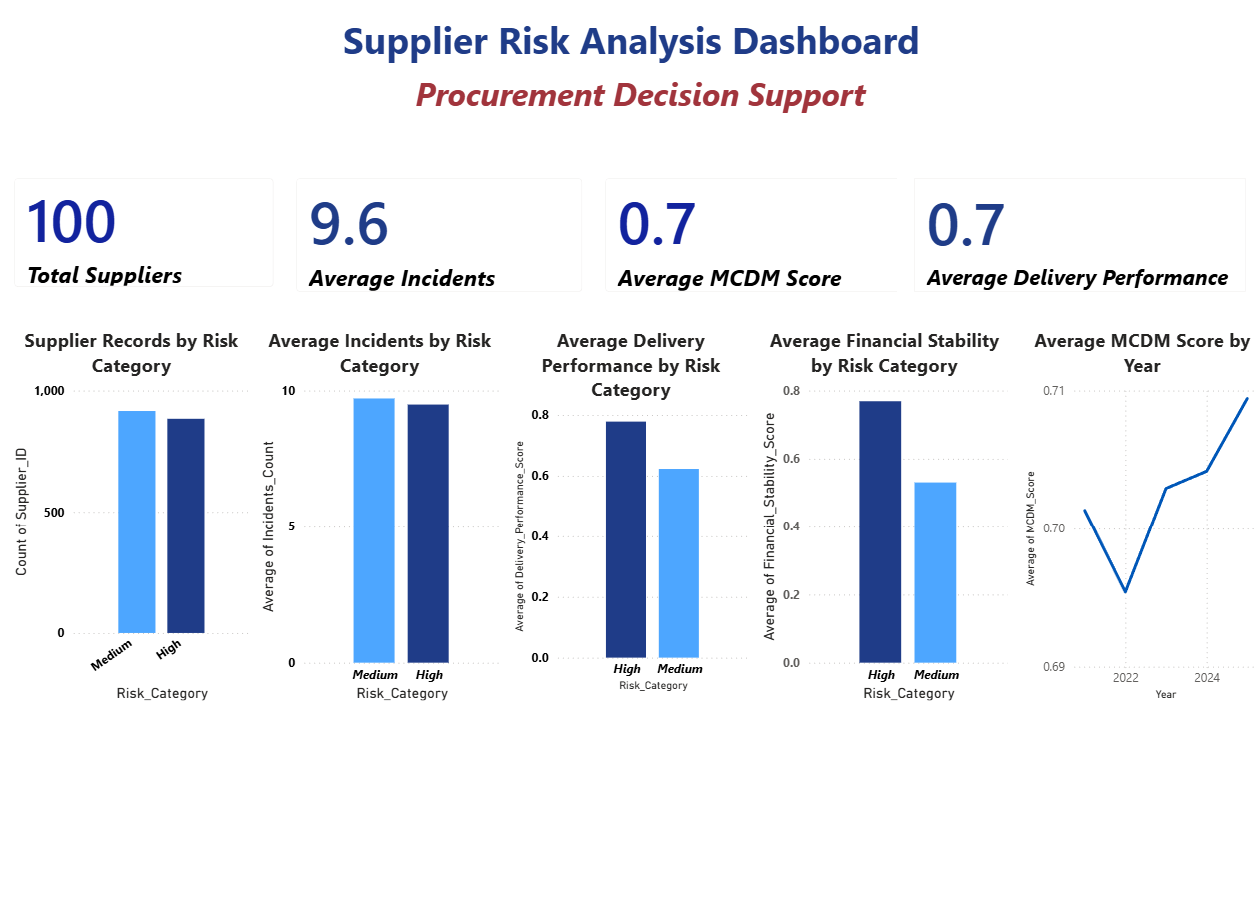

What the dashboard file says about the page in this screenshot:
{"tool":"powerbi","page":{"name":"Page 1","canvas":[1280,720],"ordinal":0},"visuals":[{"type":"cardVisual","fields":{"Data":["supplier_risk.Total Suppliers"]},"box":[0,169.6,296.4,144.6],"z":0},{"type":"cardVisual","fields":{"Data":["supplier_risk.Average MCDM Score"]},"box":[597,169.6,341.1,150],"z":1000},{"type":"cardVisual","fields":{"Data":["supplier_risk.Average Delivery Performance"]},"box":[908.9,169.6,369.6,150],"z":2000},{"type":"cardVisual","fields":{"Data":["supplier_risk.Average Incidents"]},"box":[285.1,169.6,323.2,150],"z":3000},{"type":"clusteredColumnChart","title":"Supplier Records by Risk Category","fields":{"Category":["supplier_risk.Risk_Category"],"Y":["CountNonNull(supplier_risk.Supplier_ID)"]},"box":[10.6,338.1,250.1,382],"z":4000},{"type":"clusteredColumnChart","title":"Average Incidents by Risk Category","fields":{"Category":["supplier_risk.Risk_Category"],"Y":["Avg(supplier_risk.Incidents_Count)"]},"box":[260.8,338.1,251.7,382],"z":5000},{"type":"clusteredColumnChart","title":"Average Delivery Performance by Risk Category","fields":{"Category":["supplier_risk.Risk_Category"],"Y":["Avg(supplier_risk.Delivery_Performance_Score)"]},"box":[517,338.1,247.1,372.9],"z":6000},{"type":"lineChart","title":"Average MCDM Score by Year","fields":{"Category":["supplier_risk.Year"],"Y":["Avg(supplier_risk.MCDM_Score)"]},"box":[1032.4,338.1,247.1,382],"z":7000},{"type":"clusteredColumnChart","title":"Average Financial Stability by Risk Category","fields":{"Category":["supplier_risk.Risk_Category"],"Y":["Avg(supplier_risk.Financial_Stability_Score)"]},"box":[765.6,338.1,259.2,382],"z":8000},{"type":"textbox","box":[0,15.2,1281,68.2],"z":9000},{"type":"textbox","box":[100.1,72.8,1099.1,57.6],"z":10000}]}

Visuals, with their boxes on the page's 1280x720 design canvas (x1, y1, x2, y2). These are canvas units, not pixel positions in the 1259x902 screenshot, which may show the page scaled, cropped or inside an application window:
cardVisual - supplier_risk.Total Suppliers: x1=0, y1=170, x2=296, y2=314
cardVisual - supplier_risk.Average MCDM Score: x1=597, y1=170, x2=938, y2=320
cardVisual - supplier_risk.Average Delivery Performance: x1=909, y1=170, x2=1278, y2=320
cardVisual - supplier_risk.Average Incidents: x1=285, y1=170, x2=608, y2=320
"Supplier Records by Risk Category" clusteredColumnChart: x1=11, y1=338, x2=261, y2=720
"Average Incidents by Risk Category" clusteredColumnChart: x1=261, y1=338, x2=512, y2=720
"Average Delivery Performance by Risk Category" clusteredColumnChart: x1=517, y1=338, x2=764, y2=711
"Average MCDM Score by Year" lineChart: x1=1032, y1=338, x2=1280, y2=720
"Average Financial Stability by Risk Category" clusteredColumnChart: x1=766, y1=338, x2=1025, y2=720
textbox: x1=0, y1=15, x2=1281, y2=83
textbox: x1=100, y1=73, x2=1199, y2=130
